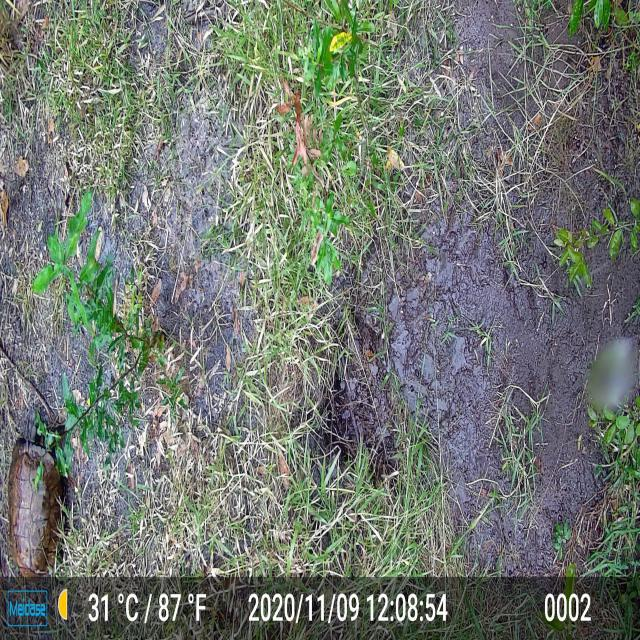tortoise: (7, 404, 68, 590)
